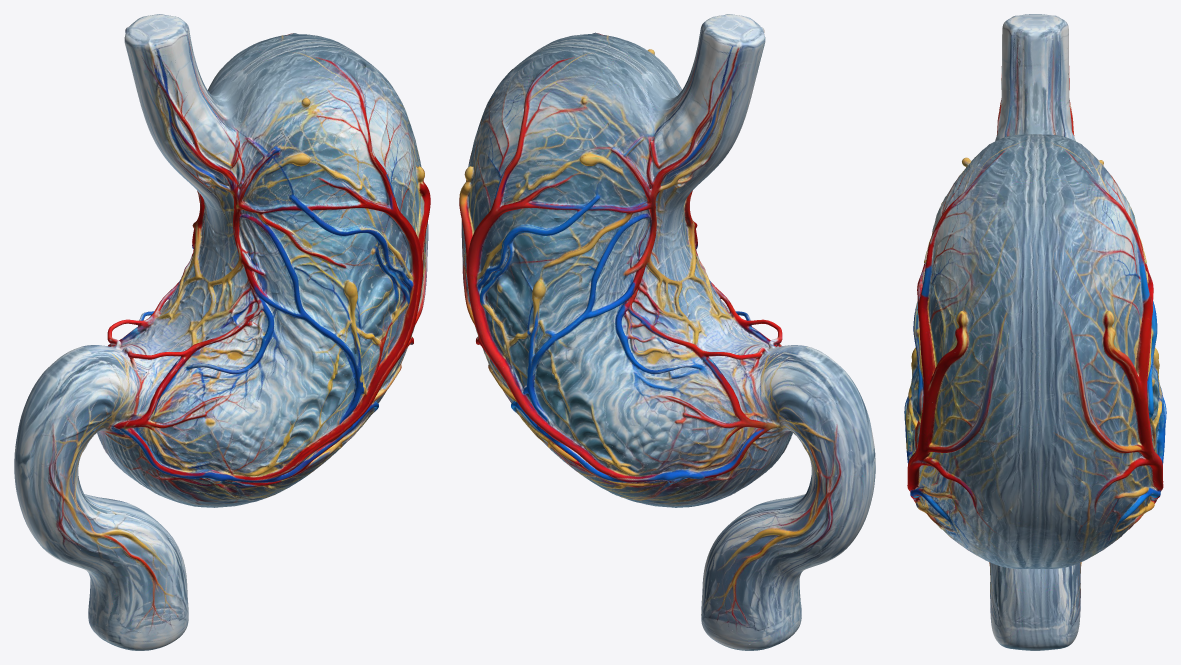
The model's file is stomach.glb.
3 renders of one model, left to right at view 1: azimuth 30°, elevation 25°; view 2: azimuth 150°, elevation 25°; view 3: azimuth 270°, elevation 25°, orthographic. The views are drawn at different scales.
Parts seen in each view (by area): view 1: Mesh_0.002; view 2: Mesh_0.002; view 3: Mesh_0.002.
Part boxes in pixels (bbox=[...]): Mesh_0.002: bbox=[14, 14, 430, 650]; Mesh_0.002: bbox=[459, 14, 875, 650]; Mesh_0.002: bbox=[904, 14, 1166, 650].
Bounding box in the file's own units: 1.27 × 1.9 × 0.715.
Materials: 1 (1 with a texture image).
